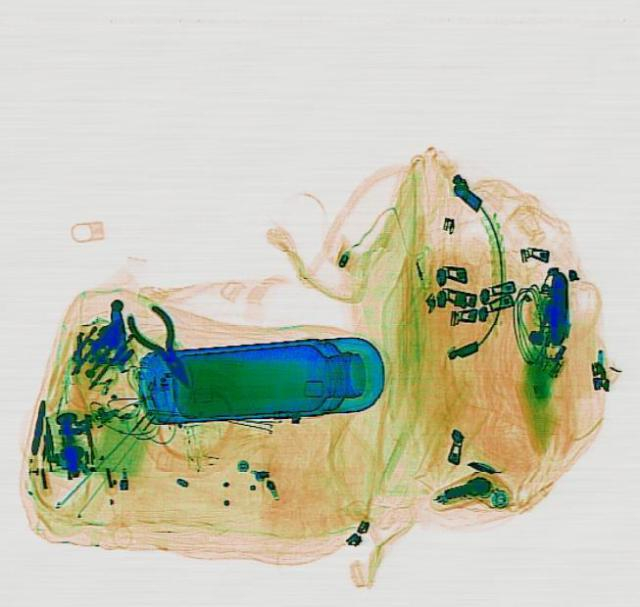Pliers: (120, 300, 208, 395)
